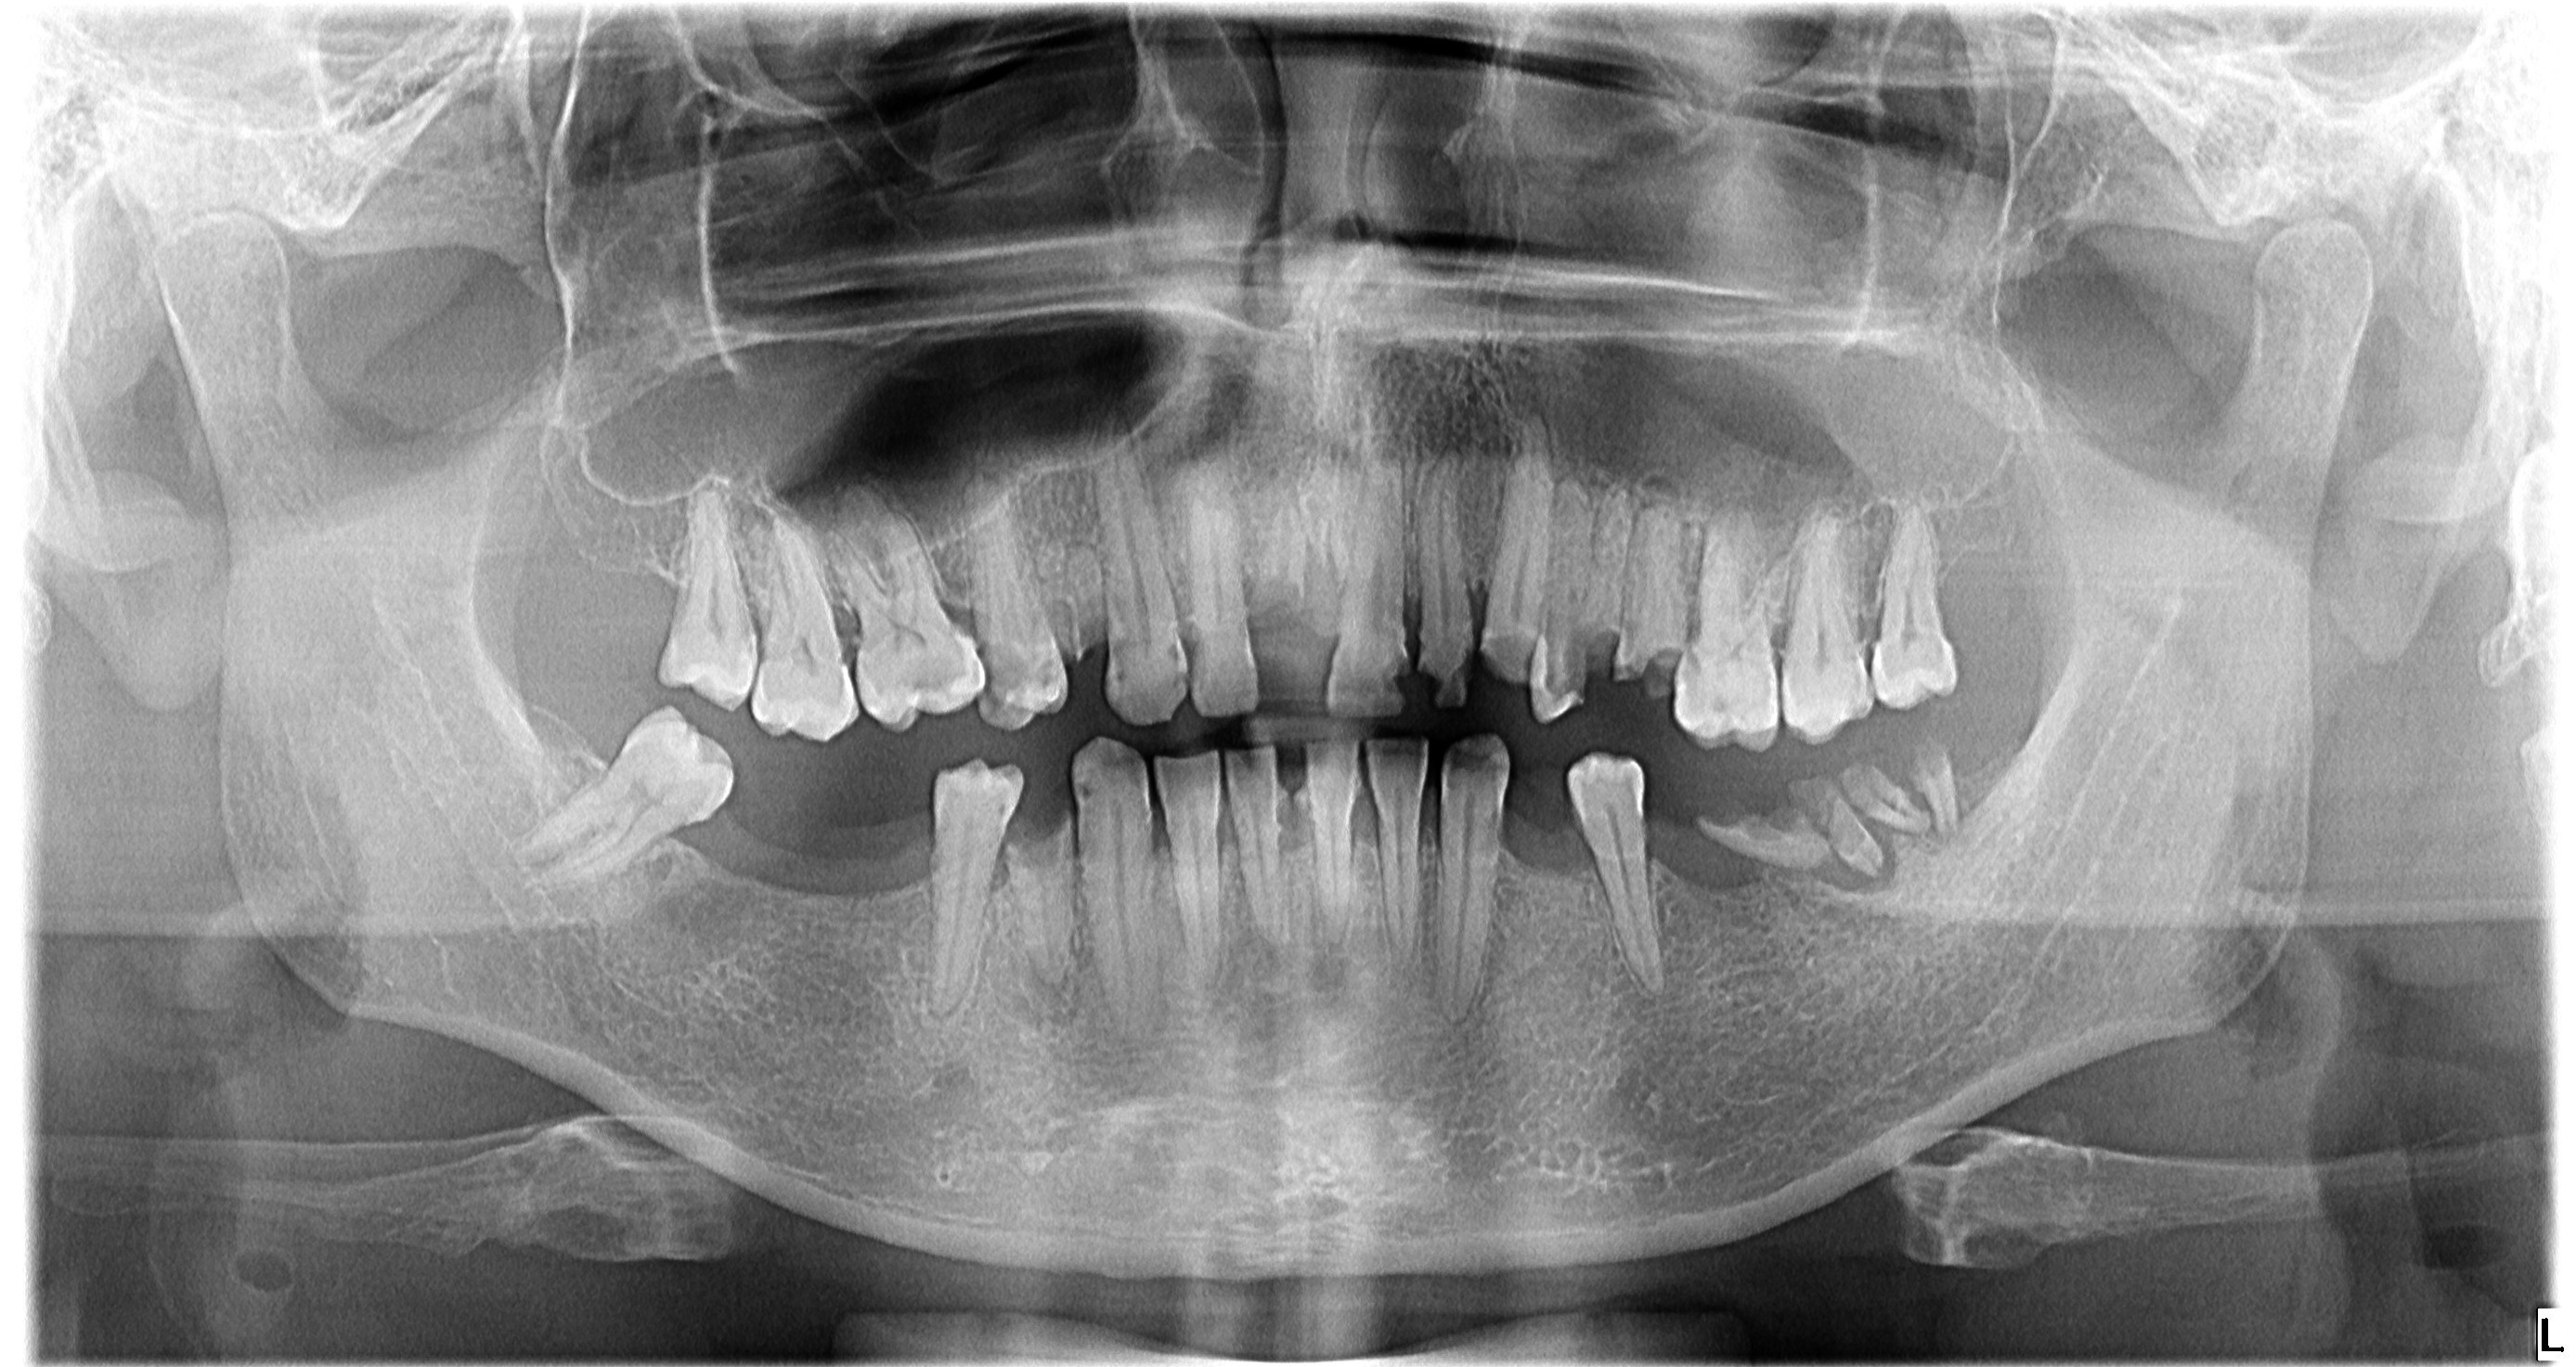API: (1003, 964, 1094, 1035), (1629, 465, 1690, 514), (1261, 473, 1308, 506)
CAR: (968, 635, 1038, 717), (1477, 628, 1537, 715), (1559, 628, 1617, 701), (1375, 642, 1411, 717), (1402, 649, 1443, 713), (1438, 643, 1475, 710), (1637, 637, 1680, 693), (1157, 642, 1193, 695), (1104, 655, 1136, 698), (911, 674, 957, 703), (1697, 691, 1728, 725), (1067, 785, 1097, 810)
IMT: (1308, 538, 1337, 626), (934, 581, 976, 633), (823, 598, 860, 652), (1244, 550, 1269, 621), (985, 851, 1009, 894)
ROT: (998, 819, 1078, 979), (1772, 780, 1893, 877), (1693, 804, 1838, 884), (1046, 533, 1128, 662), (1831, 752, 1944, 839), (1903, 734, 1971, 841), (1257, 494, 1312, 625)
